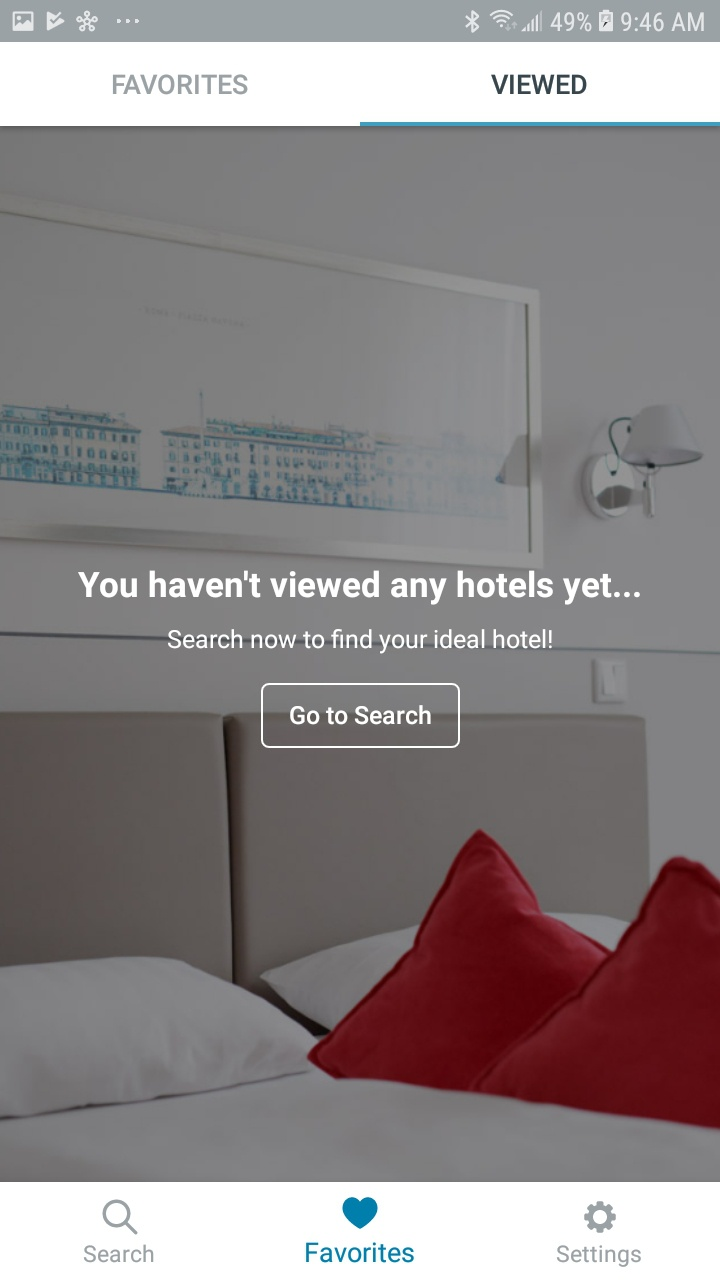Icon: (103, 1199, 139, 1235), (342, 1196, 379, 1230), (584, 1200, 617, 1233)
Image: (1, 127, 720, 1182)
Text: (78, 570, 641, 606), (168, 629, 553, 655), (113, 74, 249, 96), (306, 1242, 415, 1263), (491, 74, 588, 96), (557, 1244, 642, 1268), (84, 1244, 155, 1263)
TextButton: (261, 683, 461, 749)
UpperTaskBar: (1, 1, 720, 43)
